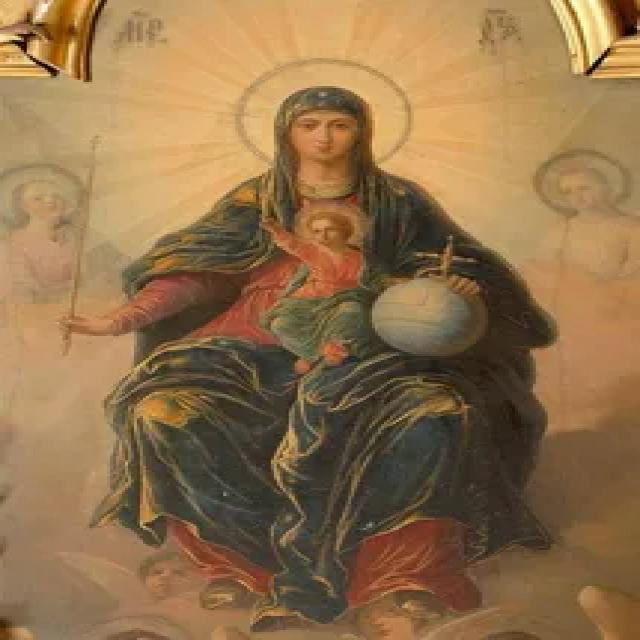mother of god: (65, 84, 578, 622)
